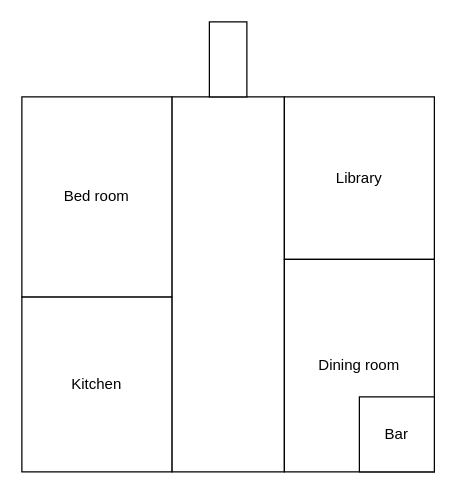
Some shapes in this 456 by 494 pixel diagram are drawn without their labels. The shapes that lost their labels are listed below. From the top down, each one's centre as x and y in pixels, then its label:
the point at 227,59: Main door
the point at 227,284: Foyer
